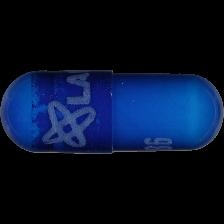50436-3367: (0, 0, 224, 224)
